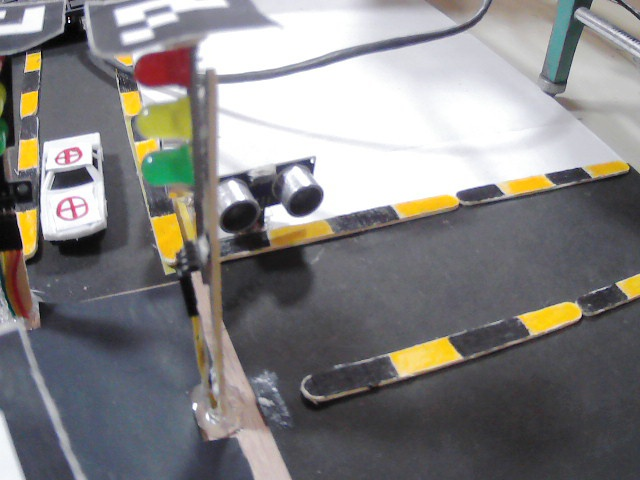aruco_marker: (85, 0, 261, 55), (0, 0, 69, 56)
emergency_vehicle: (39, 130, 112, 245)
traffic_light: (132, 46, 215, 208), (0, 60, 15, 161)
uno_breadboard: (212, 159, 330, 233)
